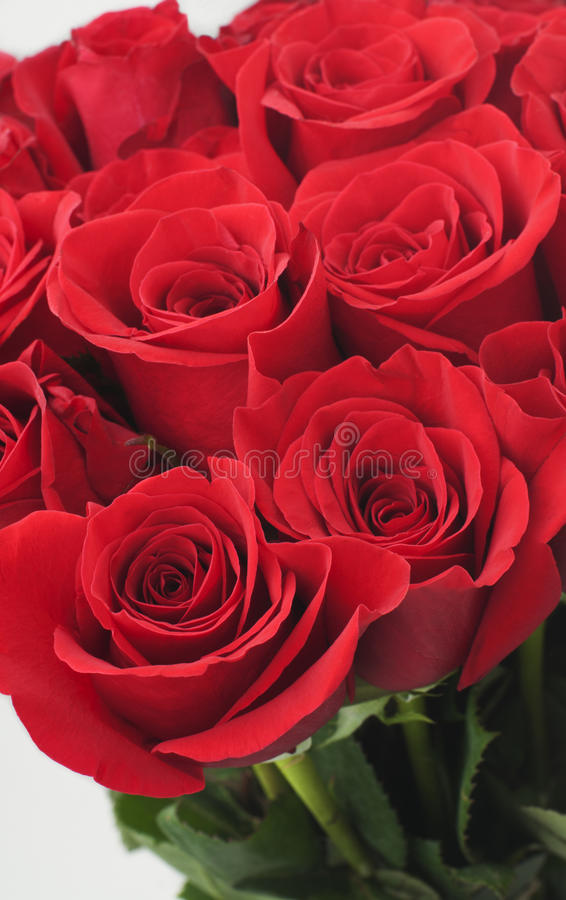RedRose: (36, 485, 346, 743), (281, 374, 523, 640), (69, 192, 322, 419), (320, 149, 560, 330), (228, 9, 517, 125), (49, 11, 222, 129)
